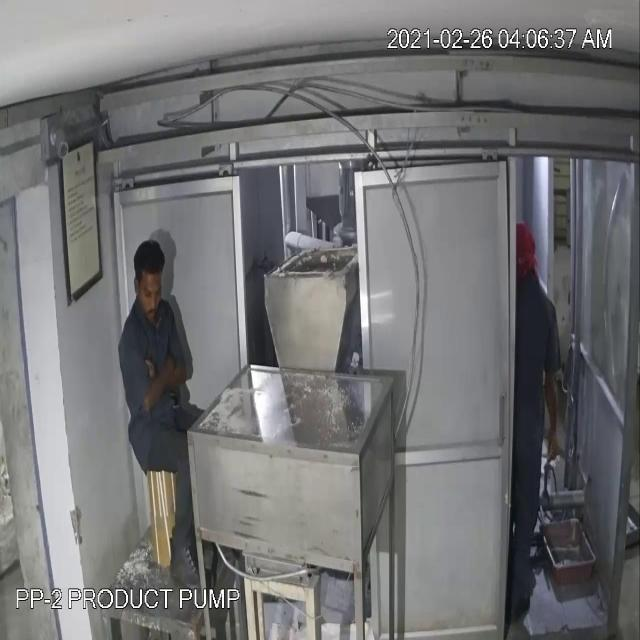no-helmet: (127, 234, 169, 287)
